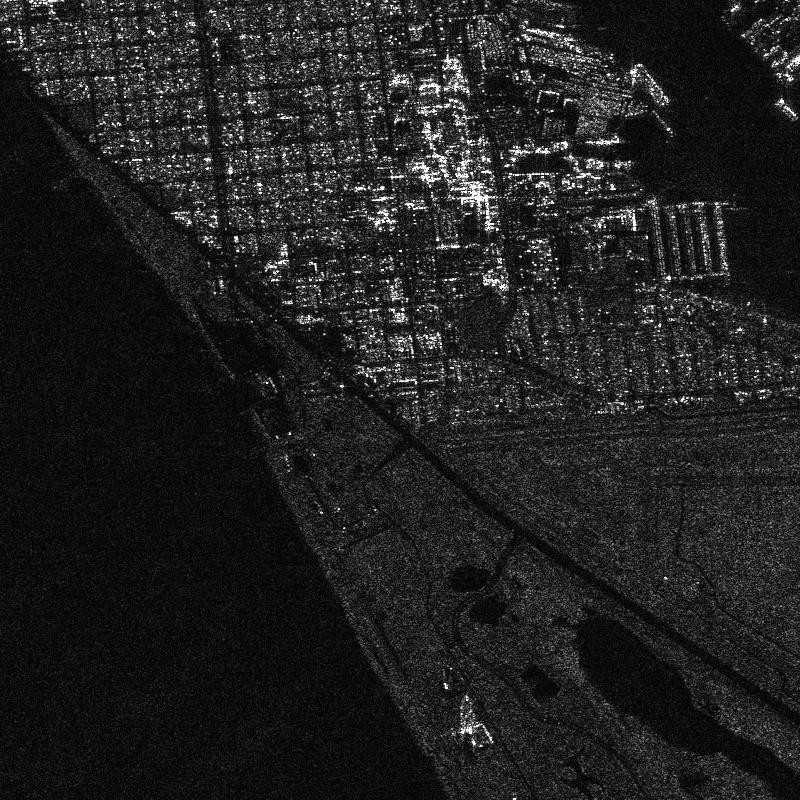ship: (630, 63, 670, 106), (775, 98, 798, 121), (535, 140, 569, 154), (585, 132, 619, 145), (585, 157, 604, 168), (564, 154, 579, 165), (613, 160, 633, 168)
